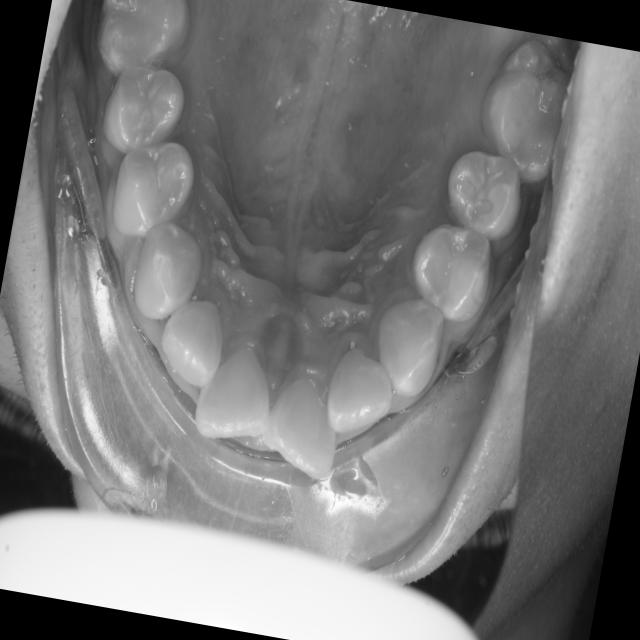tooth: (465, 36, 581, 193), (109, 208, 219, 352), (92, 122, 210, 254), (245, 359, 358, 495), (181, 323, 288, 463), (395, 209, 504, 334), (87, 50, 198, 172), (432, 132, 541, 254), (358, 277, 462, 404), (147, 283, 242, 401), (81, 0, 202, 88), (314, 336, 408, 448), (512, 30, 583, 75)
